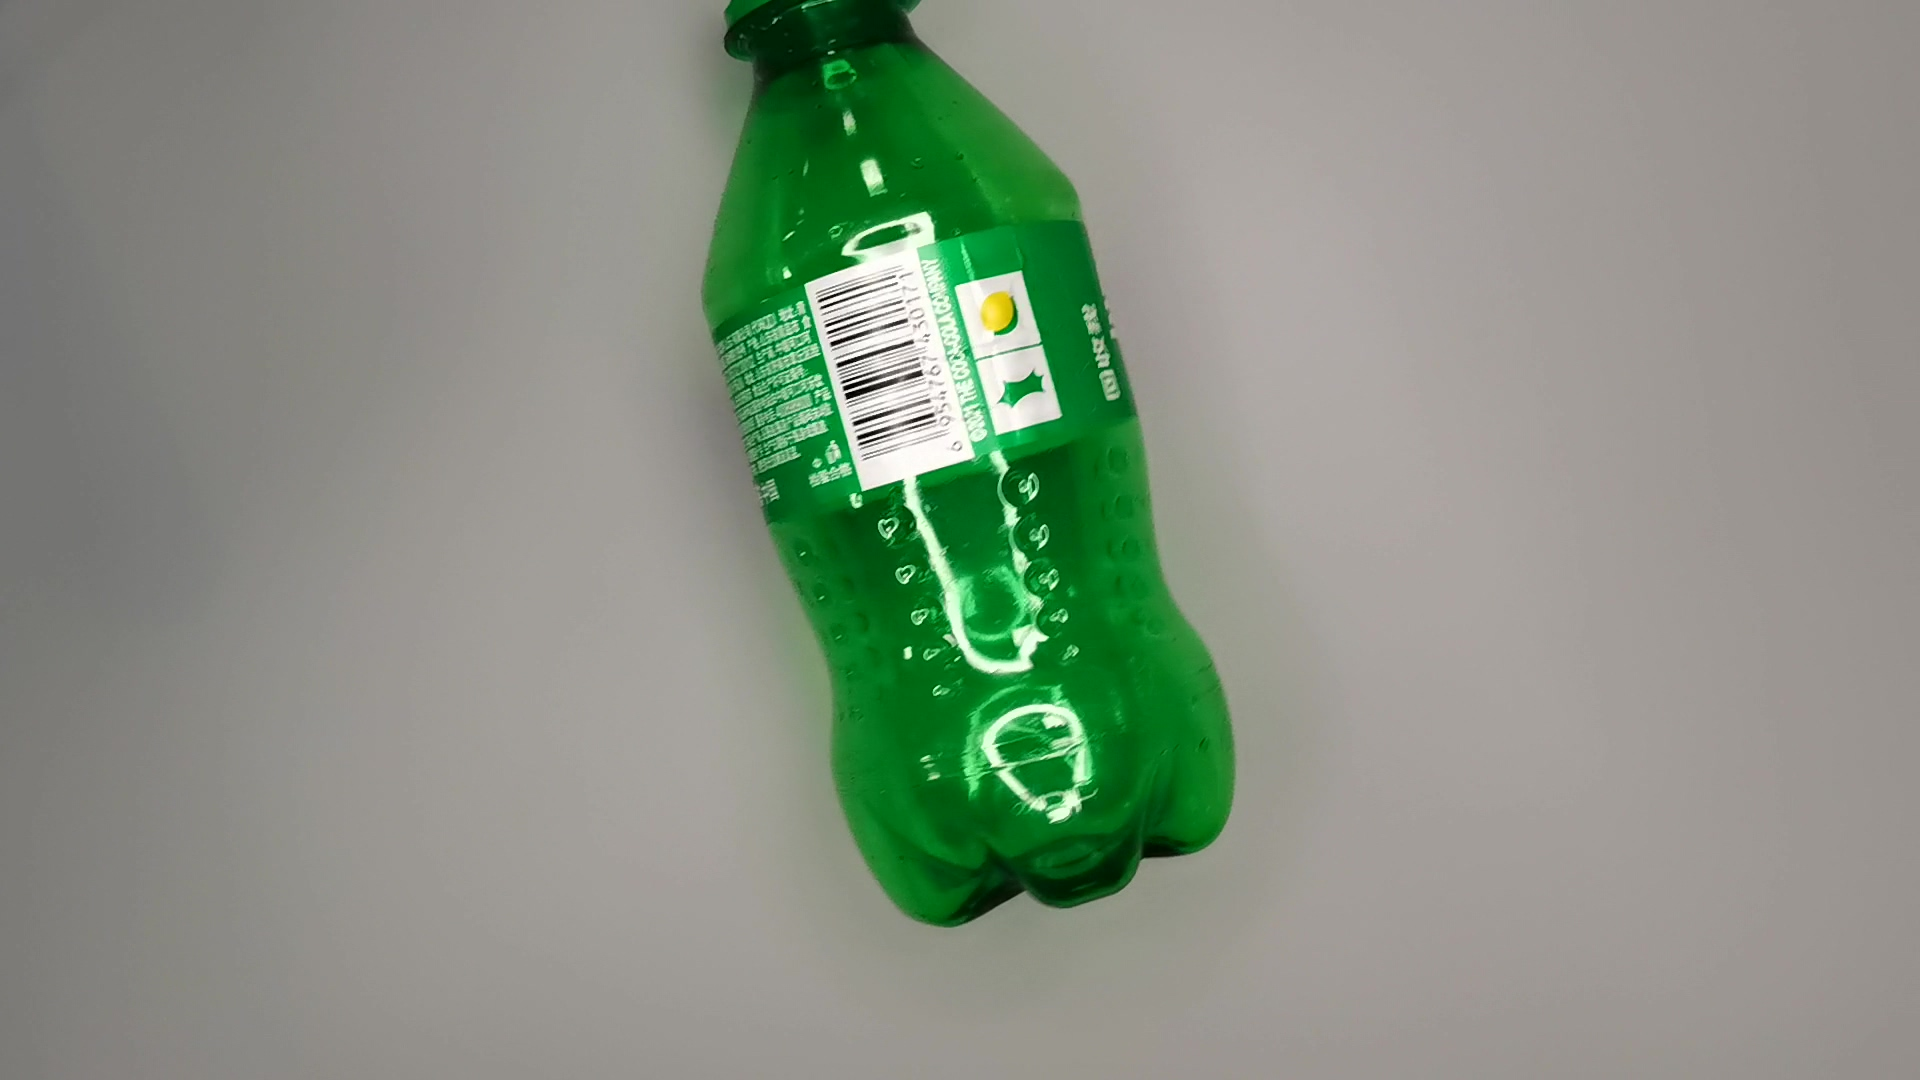bottle: (688, 1, 1247, 942)
